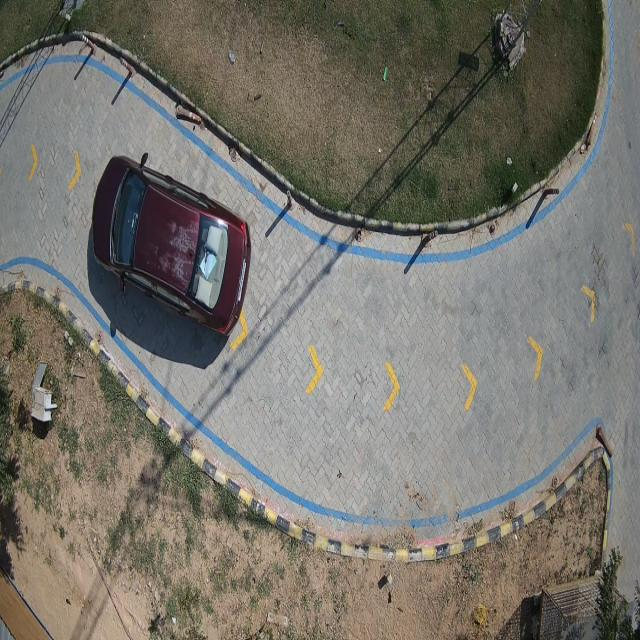car: (92, 156, 251, 334)
